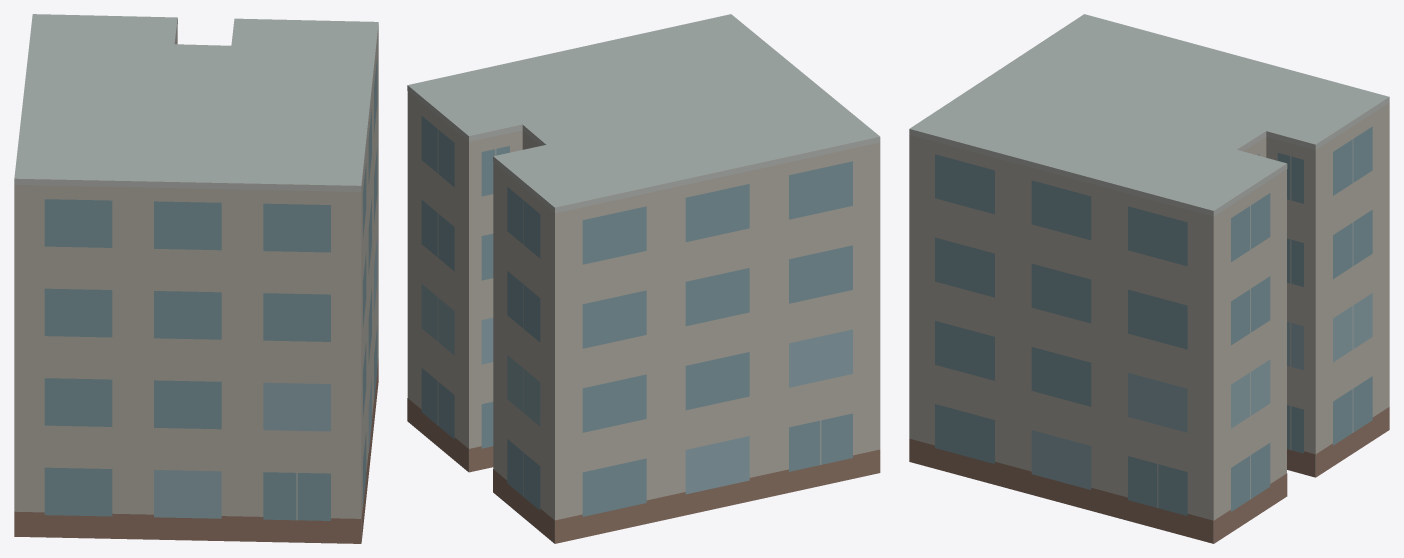
Rendered from survey-upis-32747398.glb.
The picture shows the model from 3 angles, left to right: view 1: azimuth 30°, elevation 25°; view 2: azimuth 150°, elevation 25°; view 3: azimuth 270°, elevation 25°; orthographic projection. The views are drawn at different scales.
Parts seen in each view (by area): view 1: survey-upis-32747398.tmp; view 2: survey-upis-32747398.tmp; view 3: survey-upis-32747398.tmp.
Part boxes in pixels (<box>): survey-upis-32747398.tmp: <box>14,14,378,543</box>; survey-upis-32747398.tmp: <box>407,14,880,543</box>; survey-upis-32747398.tmp: <box>909,14,1389,543</box>.
Size of the model in its own units: 18.15 by 14.3 by 18.71.
